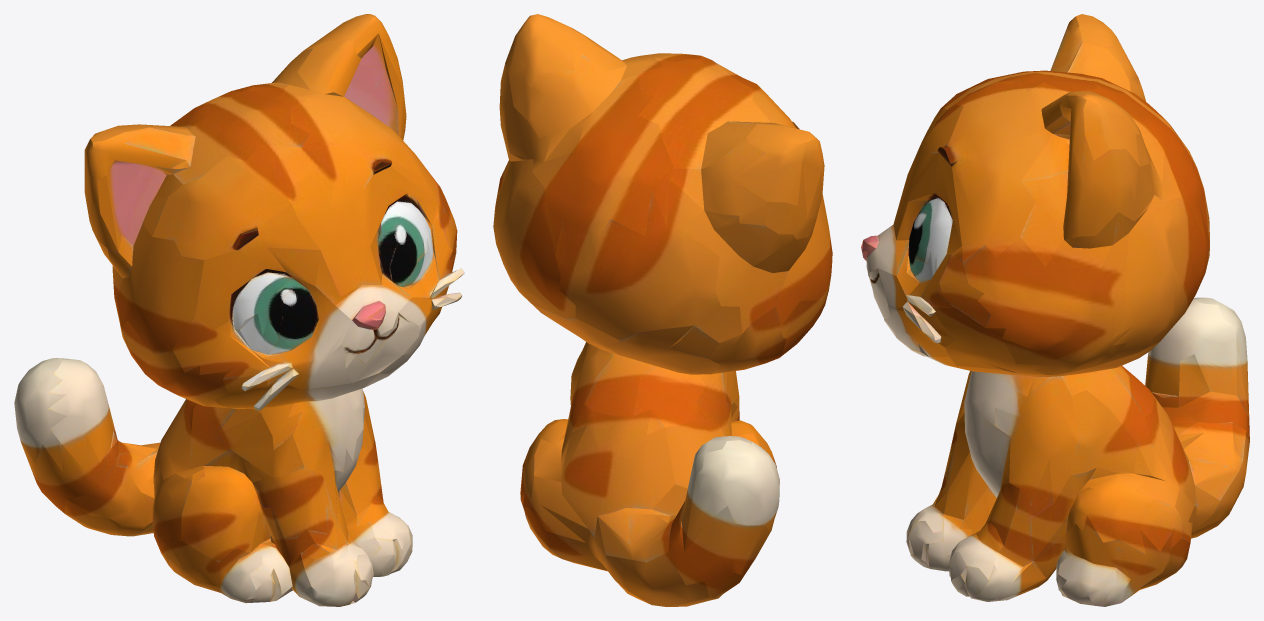
The model's file is cat.glb.
3 renders of one model, left to right at view 1: azimuth 30°, elevation 25°; view 2: azimuth 150°, elevation 25°; view 3: azimuth 270°, elevation 25°, orthographic. The views are drawn at different scales.
Size of the model in its own units: 1.35 by 1.9 by 1.3.
1 material, 1 textured.
